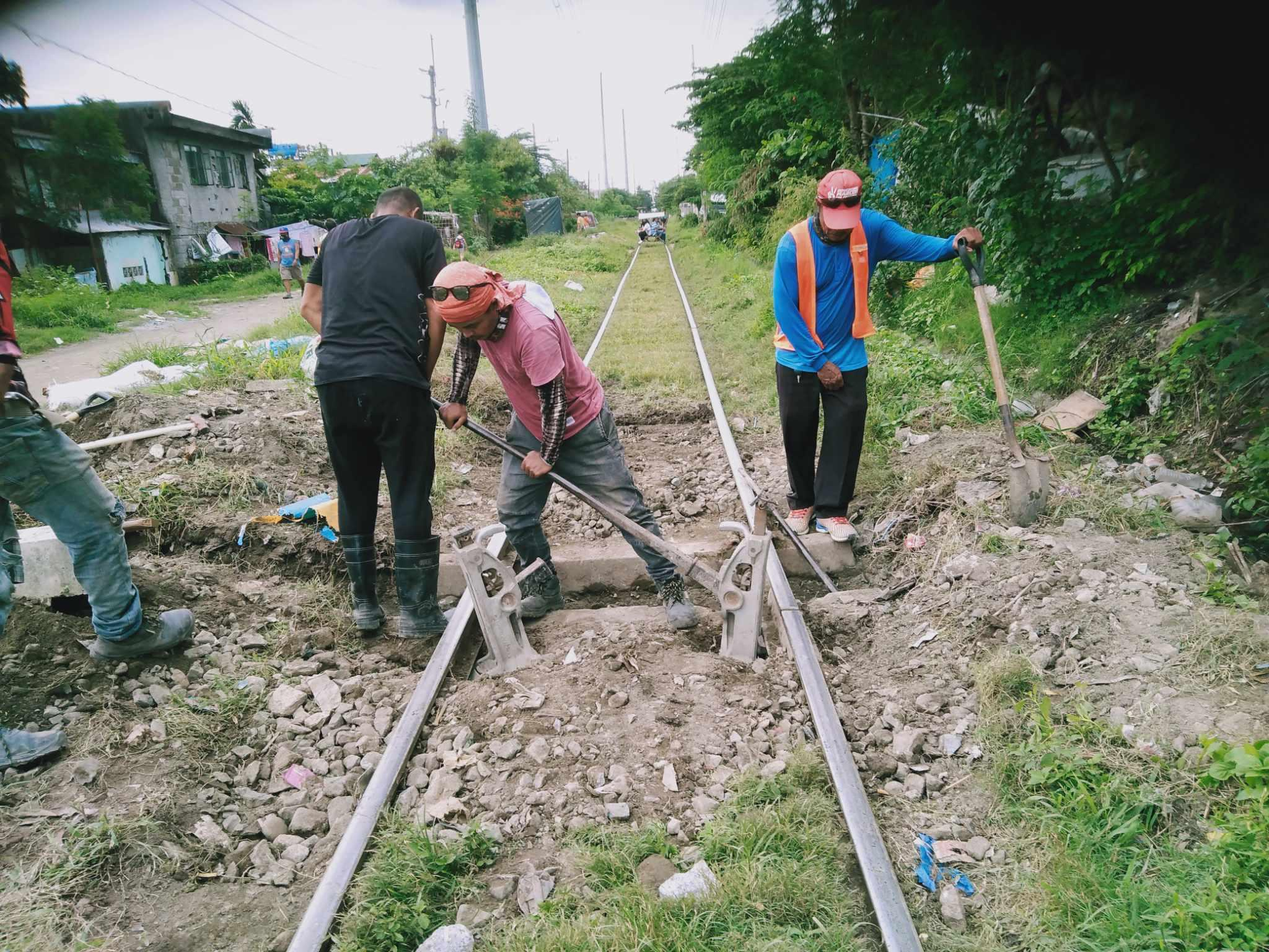railway-gap: (761, 583, 814, 639)
